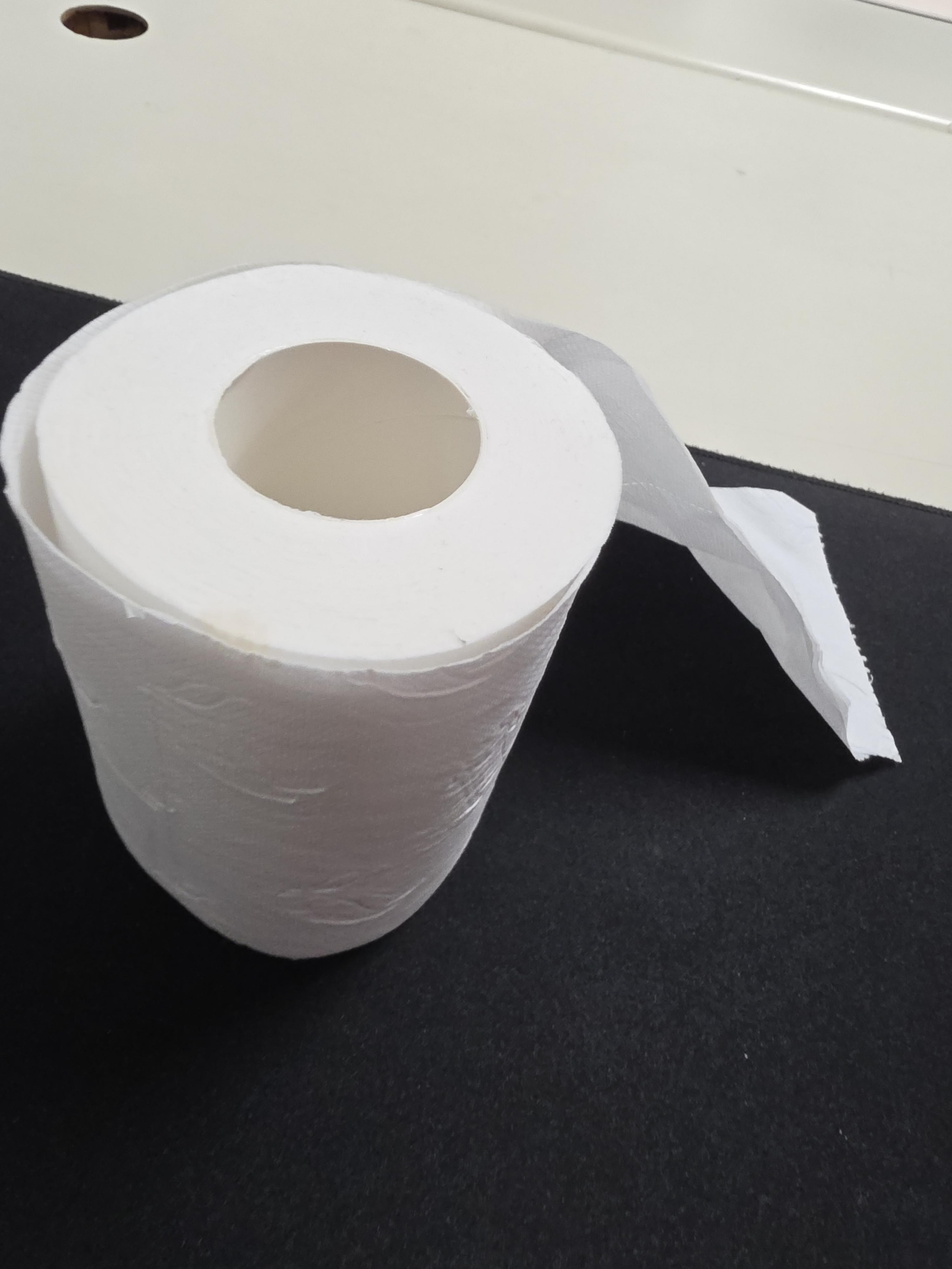tissue: (0, 261, 902, 963)
